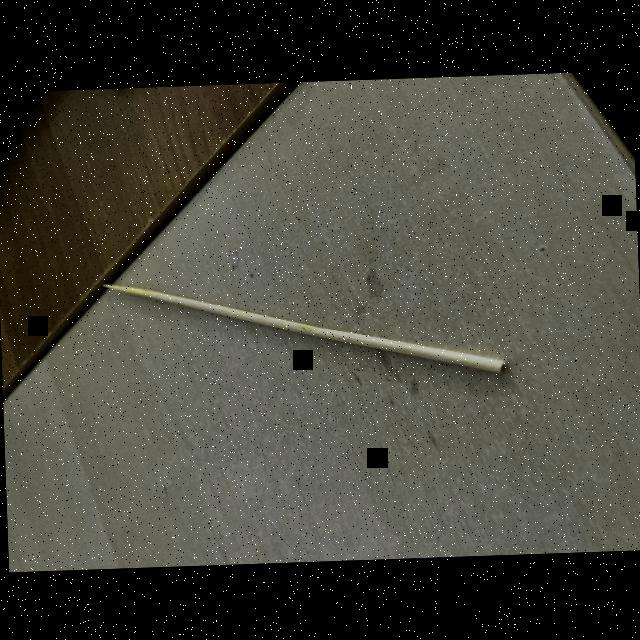stick: (76, 213, 518, 413)
